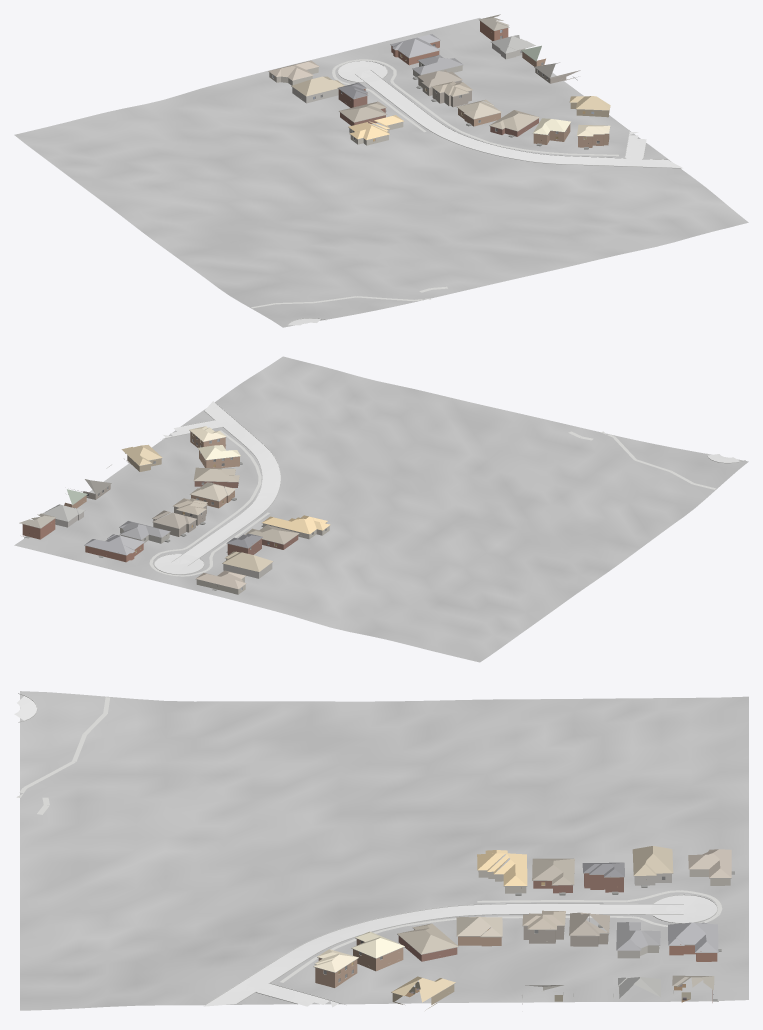
3 renders of one model, top to bottom at view 1: azimuth 30°, elevation 25°; view 2: azimuth 150°, elevation 25°; view 3: azimuth 270°, elevation 25°, orthographic. The views are drawn at different scales.
Visible parts, largest first — view 1: ground, roof, concrete, wall, walk, detail, curb, wall_stucco; view 2: ground, roof, concrete, wall, walk, detail, wall_stucco, curb, wall_stone; view 3: ground, roof, concrete, wall, walk, curb, detail, wall_stucco.
Boxes of the visible parts, box(x1,y1,x2,y2) form: ground: box(14, 18, 748, 327); roof: box(268, 14, 610, 139); concrete: box(288, 61, 682, 325); wall: box(338, 21, 609, 147); walk: box(251, 59, 618, 308); detail: box(268, 20, 609, 149); curb: box(287, 60, 681, 326); wall_stucco: box(269, 61, 462, 145); ground: box(14, 356, 748, 662); roof: box(19, 426, 330, 589); concrete: box(154, 401, 739, 574); wall: box(22, 431, 298, 562); walk: box(149, 430, 716, 576); detail: box(24, 430, 330, 590); wall_stucco: box(120, 522, 329, 594); curb: box(154, 402, 745, 574); wall_stone: box(55, 512, 272, 578); ground: box(20, 691, 748, 1010); roof: box(314, 846, 731, 1002); concrete: box(14, 696, 717, 1007); wall: box(315, 873, 717, 1010); walk: box(16, 697, 722, 982); curb: box(18, 693, 717, 1004); detail: box(313, 862, 734, 1001); wall_stucco: box(478, 869, 730, 958).
Size of the model in its own units: 261 by 12.75 by 252.
